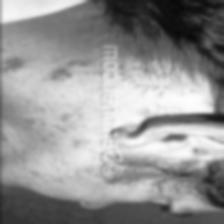Unclassified: (8, 52, 32, 74), (52, 70, 74, 86)
